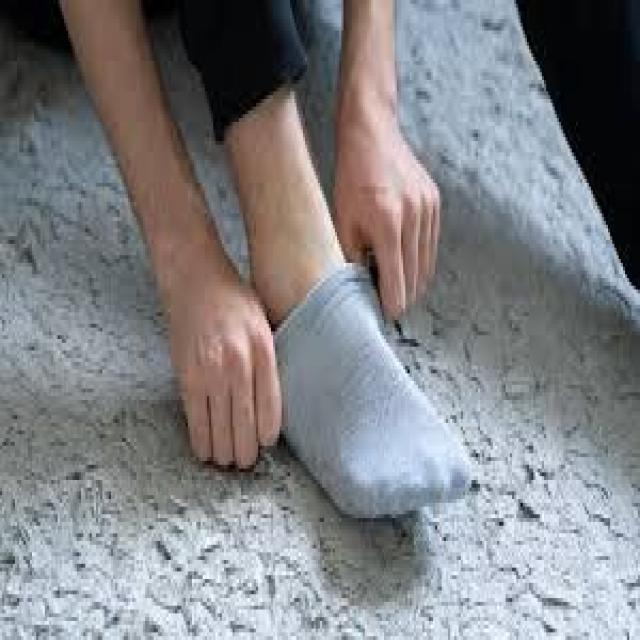sock: (271, 259, 471, 518)
